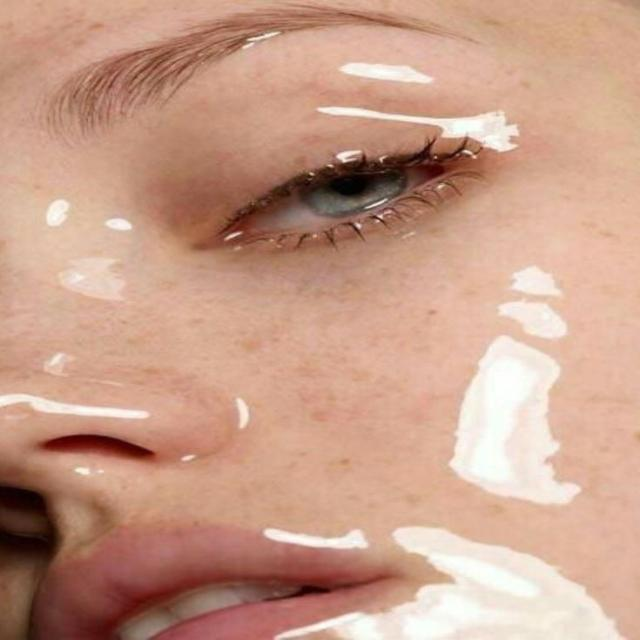Dry-Skin: (283, 280, 601, 487), (50, 263, 187, 364)
